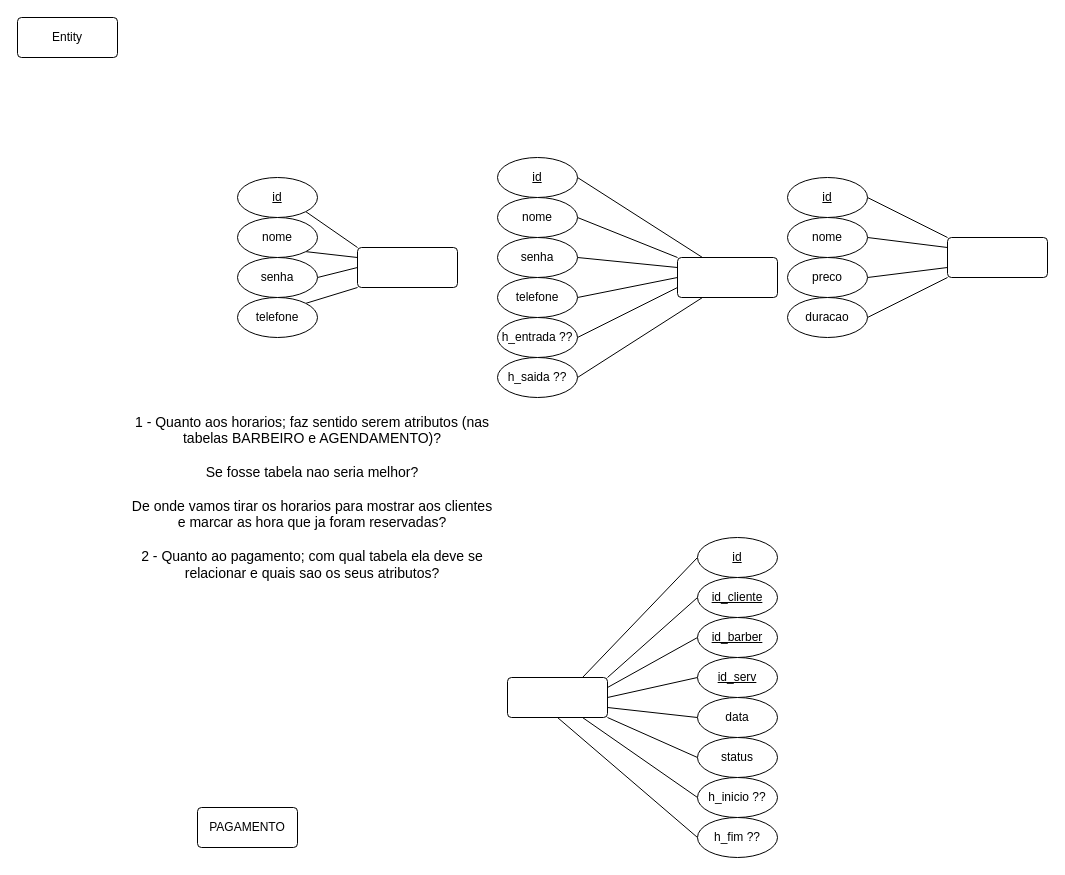
Some shapes in this 1065 by 875 pixel diagram are drawn without their labels. Here are the shapes that lost their labels. From the top down, the centre of each, then its label:
point 407,267: CLIENTE
point 727,277: BARBEIRO
point 997,257: SERVICO
point 557,697: AGENDAMENTO
